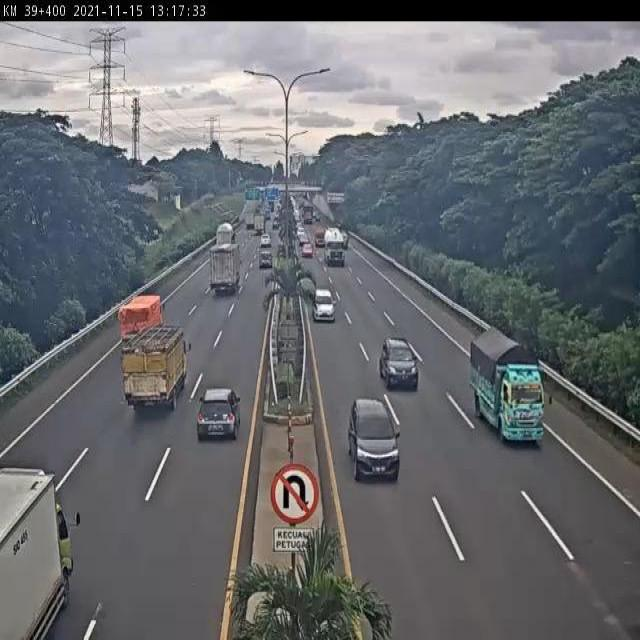car: (347, 393, 401, 487), (194, 385, 240, 447), (381, 333, 418, 392), (311, 285, 338, 328), (256, 249, 274, 272), (258, 231, 273, 249), (301, 242, 315, 258)
truck-l-: (321, 222, 348, 266)
truck-m-: (472, 326, 545, 446), (124, 325, 187, 408), (209, 243, 238, 296)
truck-s-: (115, 284, 168, 351)
